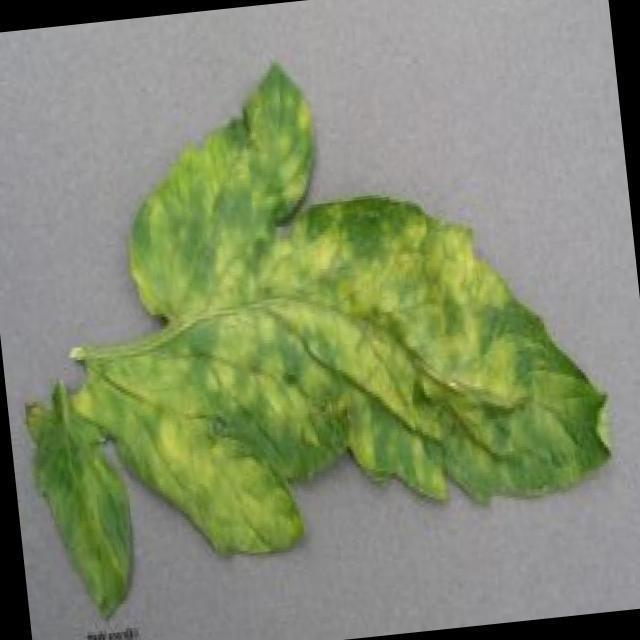Mosaic Virus: (0, 44, 623, 618)
